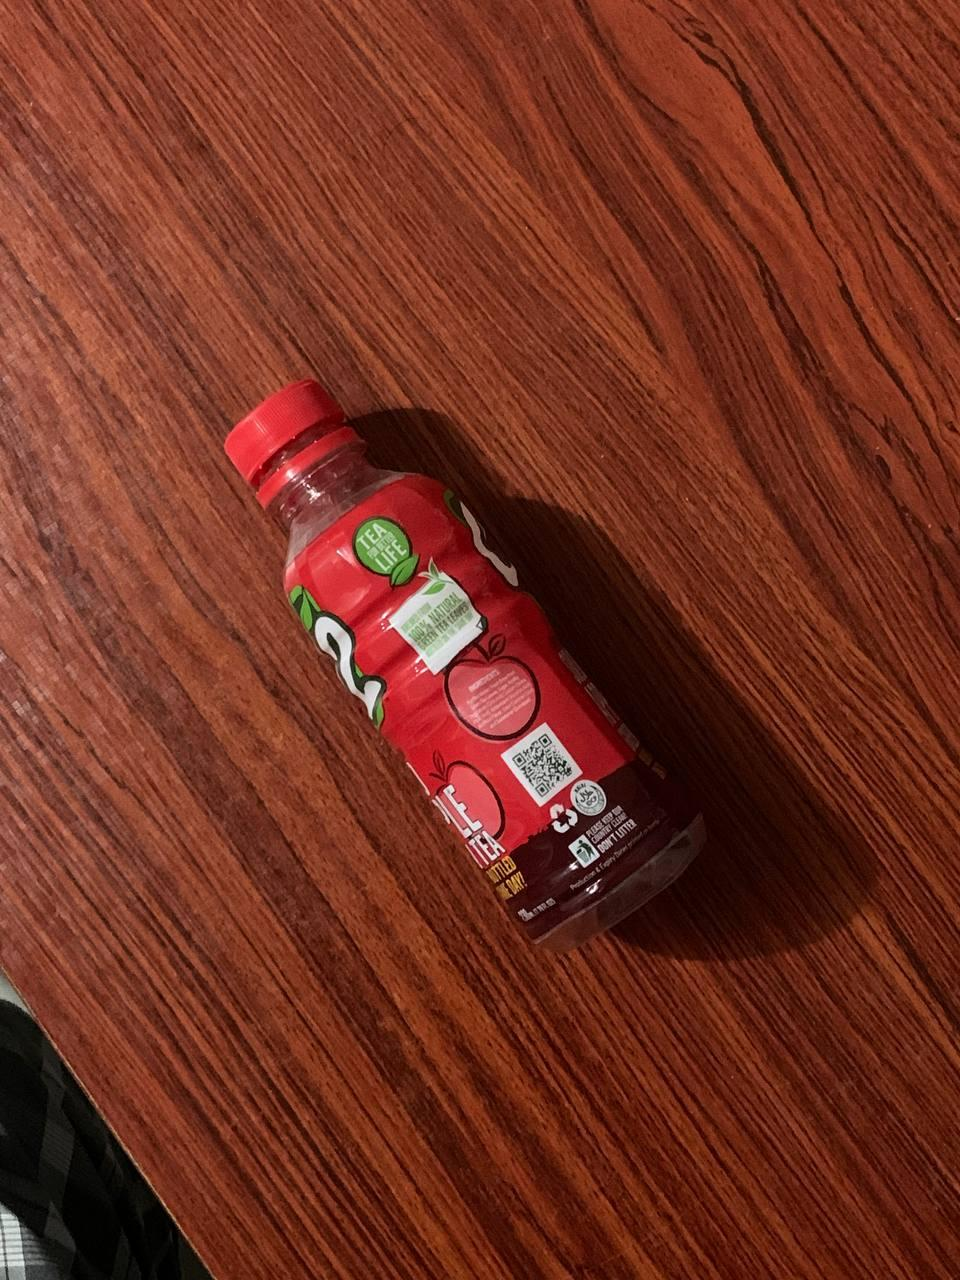plastic: (153, 353, 772, 990)
